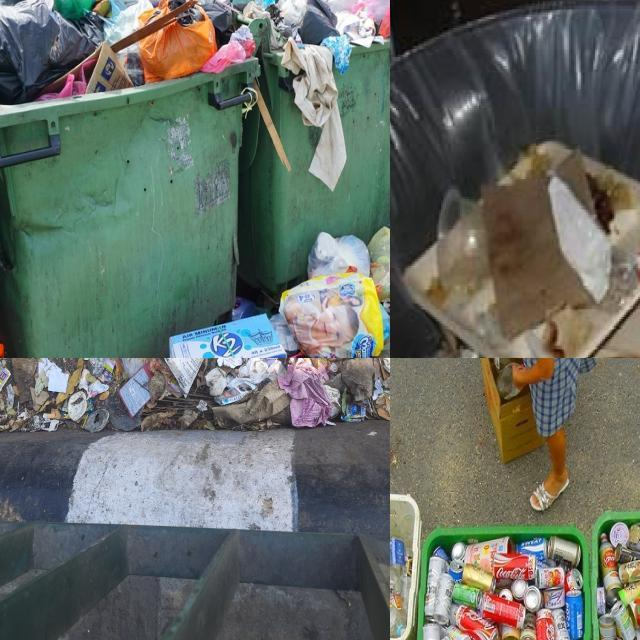Background: (0, 358, 390, 433)
Cig_bud: (43, 408, 61, 419)
Cig_pack: (214, 381, 257, 405)
Disposable: (405, 141, 640, 358)
Garbage: (403, 141, 640, 358), (390, 494, 640, 640)
Plastic: (418, 525, 591, 640), (390, 493, 422, 640)
Plastic_Bag: (138, 8, 218, 82), (139, 0, 172, 26), (120, 358, 144, 377)
Plastic_bottle: (390, 537, 406, 606), (390, 601, 405, 636)
Plastic_wraper: (342, 403, 366, 422), (99, 358, 116, 382), (167, 379, 183, 396), (0, 369, 11, 392), (204, 358, 218, 369)
Tin_box: (463, 537, 514, 571), (599, 533, 622, 605), (619, 580, 640, 606), (609, 521, 629, 546), (510, 578, 529, 602), (544, 588, 565, 608), (501, 623, 521, 640), (629, 598, 640, 626), (596, 586, 606, 615)
can: (424, 547, 448, 619), (481, 592, 526, 628), (456, 606, 499, 640), (493, 553, 536, 580), (433, 572, 454, 625), (462, 562, 496, 593), (547, 535, 581, 565), (611, 600, 635, 640), (566, 590, 583, 640), (452, 582, 481, 608), (517, 537, 547, 562), (536, 566, 565, 590), (535, 609, 556, 640), (553, 607, 572, 640), (619, 560, 640, 584), (523, 586, 542, 612), (520, 611, 536, 640), (599, 613, 616, 640), (565, 568, 583, 592), (448, 560, 463, 582), (450, 541, 466, 560), (423, 623, 440, 640)
